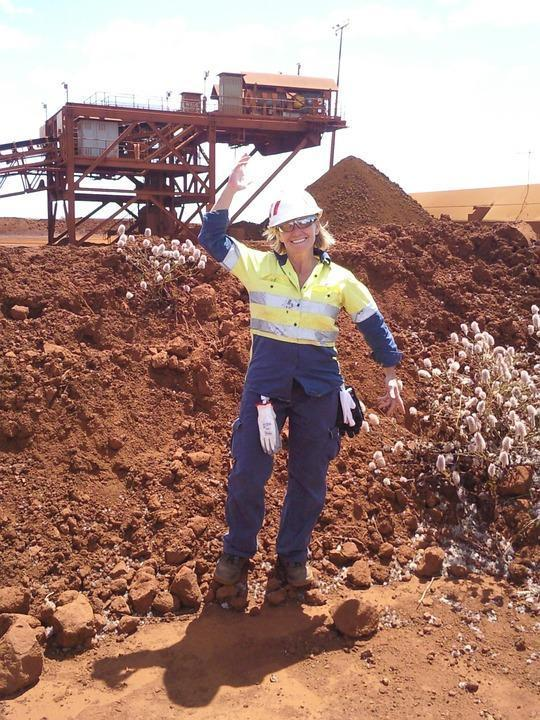vest: (231, 241, 346, 405)
